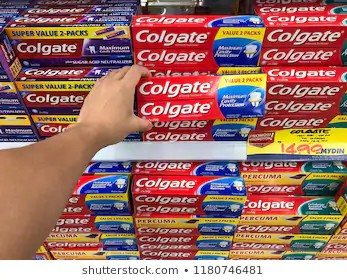colgate-family: (10, 13, 134, 71), (134, 16, 263, 68), (133, 72, 268, 120), (135, 176, 245, 220), (258, 15, 347, 68), (235, 196, 339, 238), (269, 70, 347, 112), (13, 71, 88, 109), (135, 217, 235, 238), (233, 234, 333, 254), (135, 238, 235, 251)
